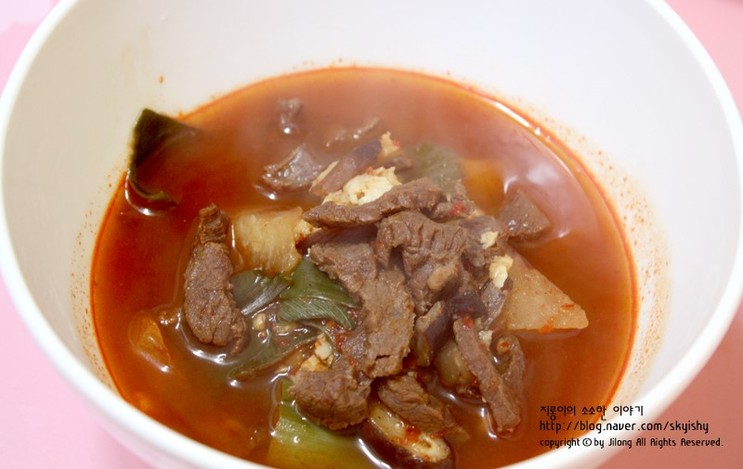mugug: (84, 59, 645, 469)
